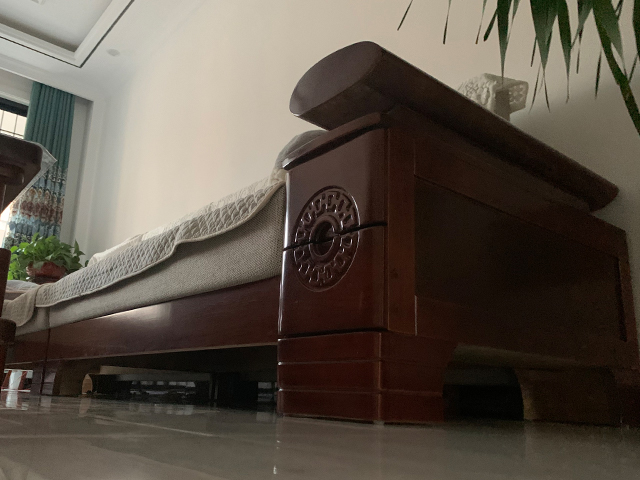sofa: (1, 40, 638, 429)
